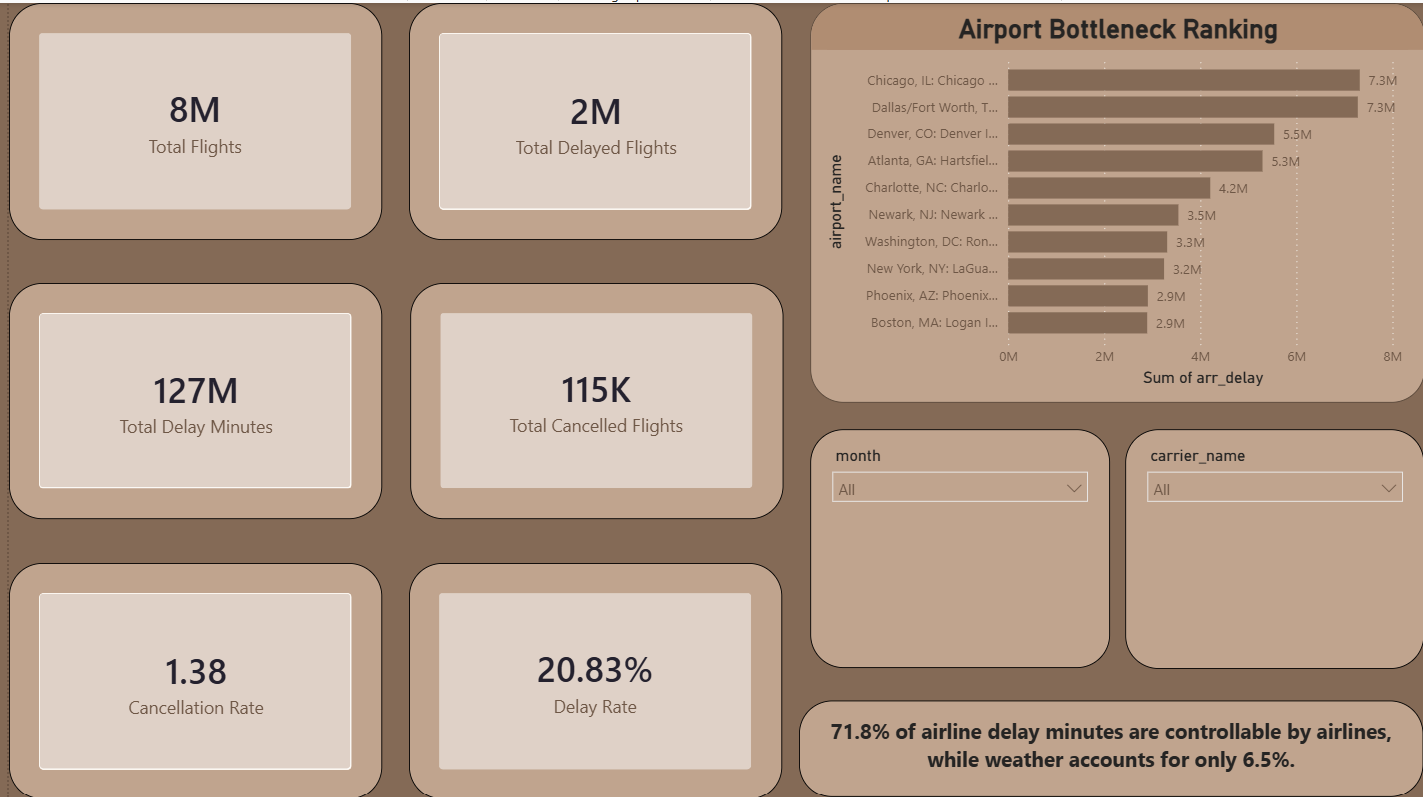

This screenshot's page, from the dashboard's own definition file:
{"tool":"powerbi","page":{"name":"Executive Operations Overview","canvas":[1280,720],"ordinal":0},"visuals":[{"type":"cardVisual","fields":{"Data":["Airline_Delay_Cause.Total Flights"]},"box":[0,0,337.6,214.1],"z":0},{"type":"cardVisual","fields":{"Data":["Airline_Delay_Cause.Total Delay Minutes"]},"box":[0,253.5,337.2,214],"z":1000},{"type":"cardVisual","fields":{"Data":["Airline_Delay_Cause.Total Cancelled Flights"]},"box":[362.8,253.5,337.2,214],"z":2000},{"type":"cardVisual","fields":{"Data":["Airline_Delay_Cause.Total Delayed Flights"]},"box":[362.3,0,337.6,214.1],"z":3000},{"type":"barChart","title":"Airport Bottleneck Ranking","fields":{"Category":["Airline_Delay_Cause.airport_name"],"Y":["Sum(Airline_Delay_Cause.arr_delay)"]},"box":[724.4,0,555.8,361.6],"z":4000},{"type":"cardVisual","fields":{"Data":["Airline_Delay_Cause.Cancellation Rate"]},"box":[0,506.3,337.6,214.1],"z":5000},{"type":"slicer","fields":{"Values":["Airline_Delay_Cause.carrier_name"]},"box":[1009.3,385.7,270.7,216.4],"z":6000},{"type":"slicer","fields":{"Values":["Airline_Delay_Cause.month"]},"box":[724.4,386,270.9,216.3],"z":7000},{"type":"textbox","box":[715.1,631.4,565.1,88.4],"z":8000},{"type":"cardVisual","fields":{"Data":["Airline_Delay_Cause.Delay Rate"]},"box":[362.3,506.3,337.6,214.1],"z":11001}]}

Visuals, with their boxes in screenshot pixels (x1, y1, x2, y2), scaled from the page's 1280x720 canvas onto the 1423x797 screenshot:
cardVisual - Airline_Delay_Cause.Total Flights: detection(0, 0, 375, 237)
cardVisual - Airline_Delay_Cause.Total Delay Minutes: detection(0, 281, 375, 517)
cardVisual - Airline_Delay_Cause.Total Cancelled Flights: detection(403, 281, 778, 517)
cardVisual - Airline_Delay_Cause.Total Delayed Flights: detection(403, 0, 778, 237)
"Airport Bottleneck Ranking" barChart: detection(805, 0, 1422, 400)
cardVisual - Airline_Delay_Cause.Cancellation Rate: detection(0, 560, 375, 796)
slicer - Airline_Delay_Cause.carrier_name: detection(1122, 427, 1422, 666)
slicer - Airline_Delay_Cause.month: detection(805, 427, 1106, 667)
textbox: detection(795, 699, 1422, 796)
cardVisual - Airline_Delay_Cause.Delay Rate: detection(403, 560, 778, 796)
